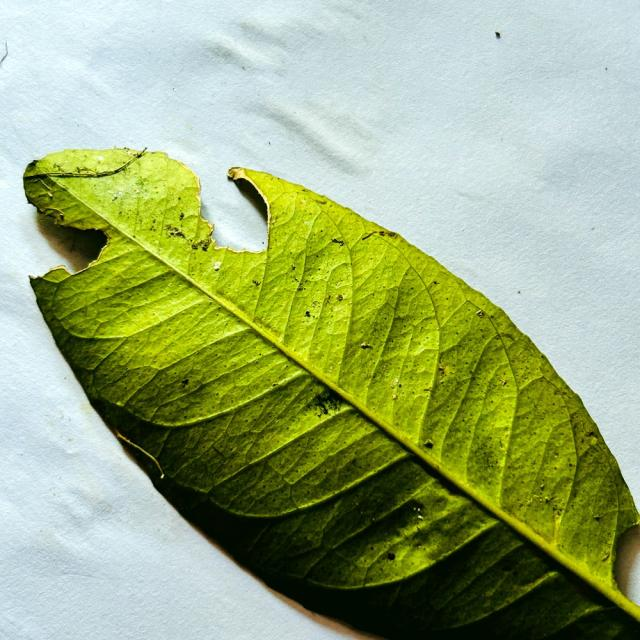Deficiency Leaf: (198, 171, 268, 251), (35, 209, 107, 273), (604, 522, 640, 606)
Lemon: (24, 148, 639, 639)
